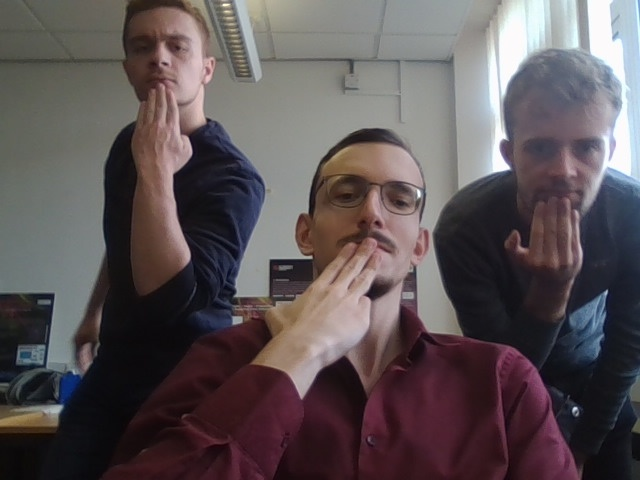livelong: (266, 237, 382, 359), (501, 196, 584, 300), (129, 81, 192, 174)
